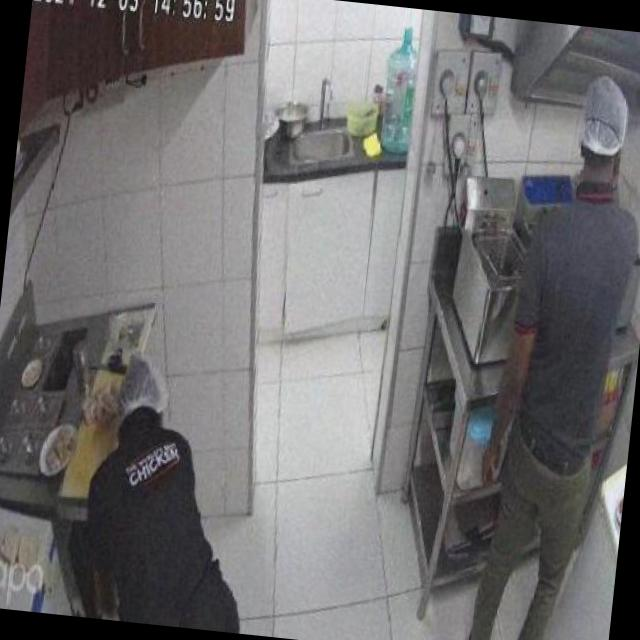hairnet: (578, 64, 632, 161), (115, 352, 170, 420)
